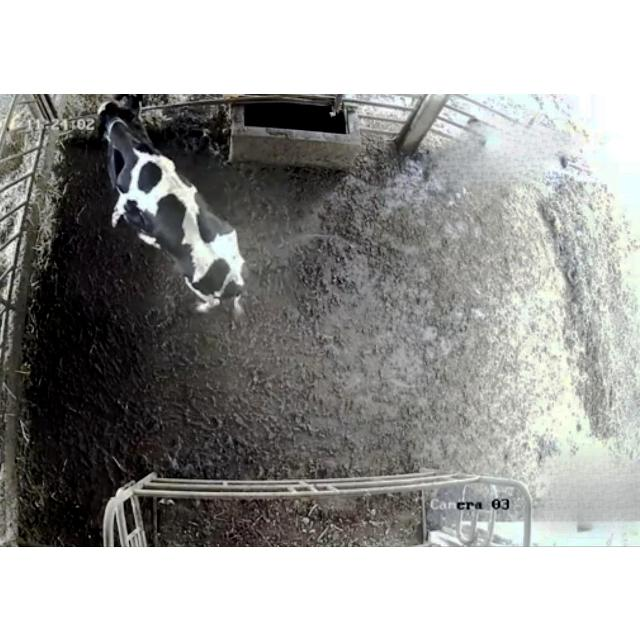ride: (92, 100, 250, 328)
